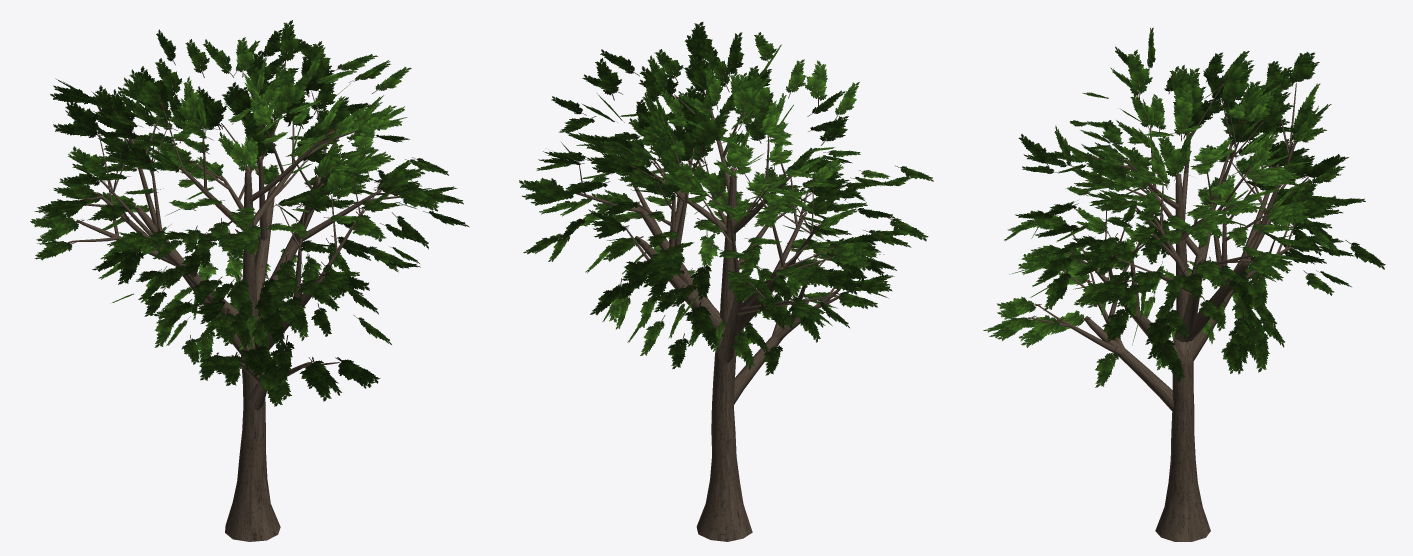
Rendered from park_oak.glb.
3 views of the same model, side by side, from view 1: azimuth 30°, elevation 25°; view 2: azimuth 150°, elevation 25°; view 3: azimuth 270°, elevation 25° (orthographic). The views are drawn at different scales.
Parts seen in each view (by area): view 1: park_oak; view 2: park_oak; view 3: park_oak.
Boxes of the visible parts, x1,y1,x2,y2 form: park_oak: [30, 20, 469, 541]; park_oak: [519, 22, 933, 541]; park_oak: [983, 27, 1385, 541].
Bounding box in the file's own units: 8.44 × 10.24 × 8.4.
Materials: 2 (2 with a texture image).
